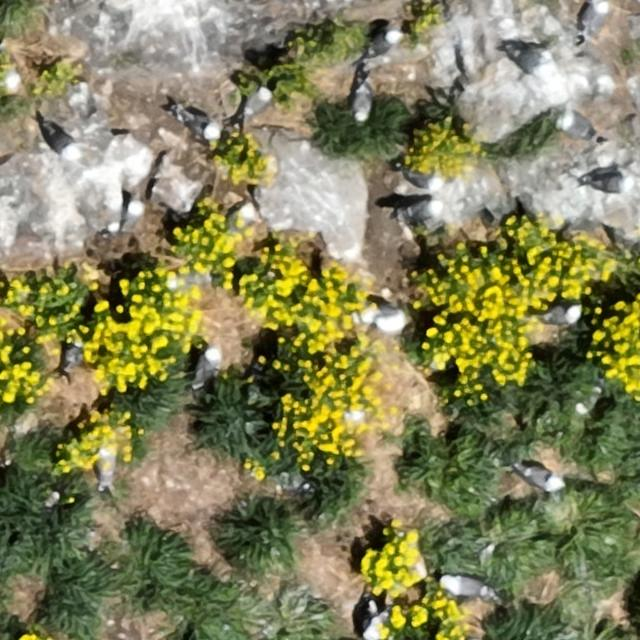umineko: (501, 41, 555, 74), (354, 297, 407, 330), (390, 198, 443, 225), (398, 161, 442, 192), (193, 347, 220, 387), (45, 125, 77, 156), (520, 467, 561, 491), (181, 112, 218, 138), (368, 29, 399, 58), (581, 1, 607, 35), (441, 576, 485, 596), (559, 117, 597, 140), (245, 87, 271, 118), (540, 304, 580, 324), (583, 172, 625, 191), (96, 449, 115, 490), (119, 199, 142, 231), (354, 84, 373, 121), (63, 341, 81, 372)
